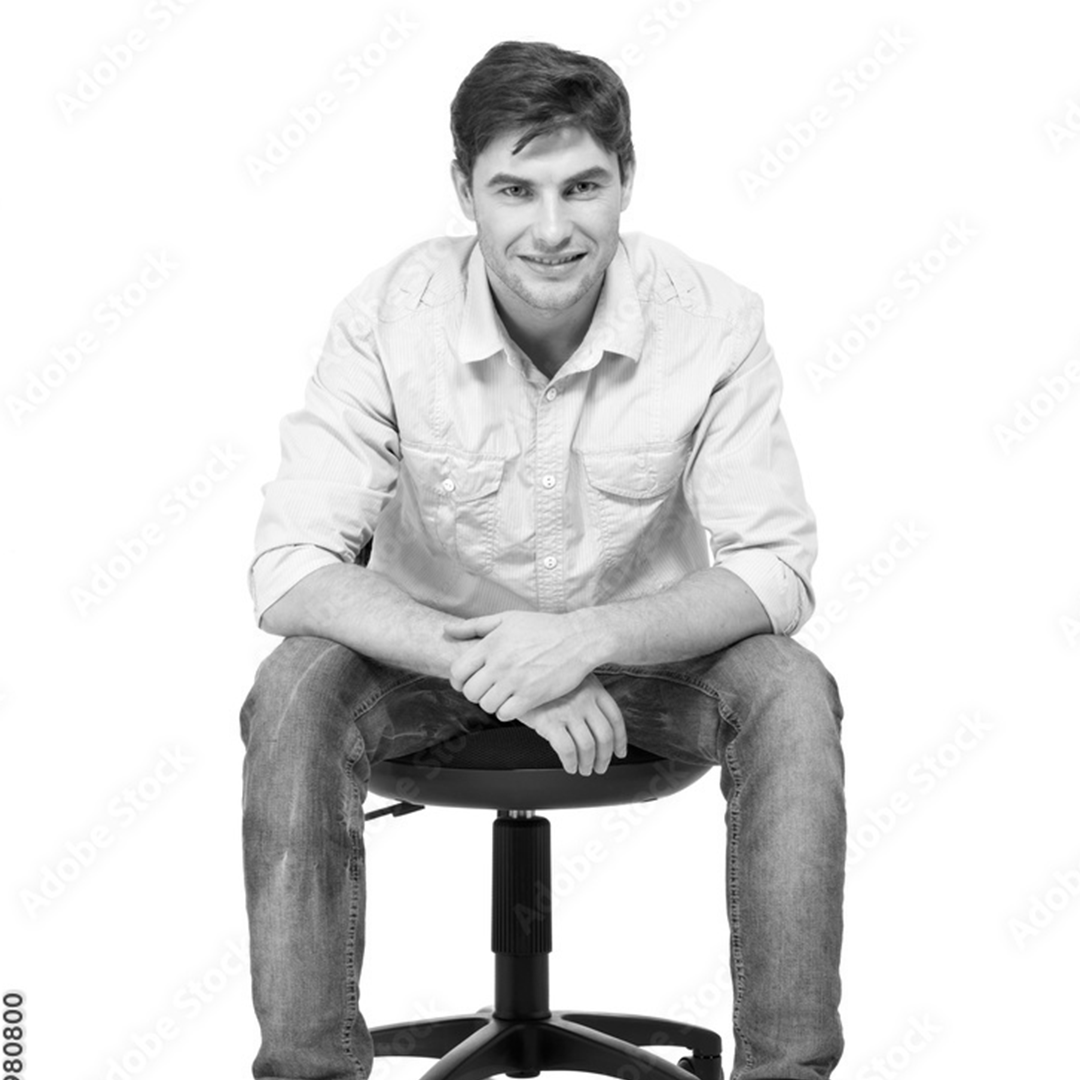Focused: (335, 58, 796, 678)
